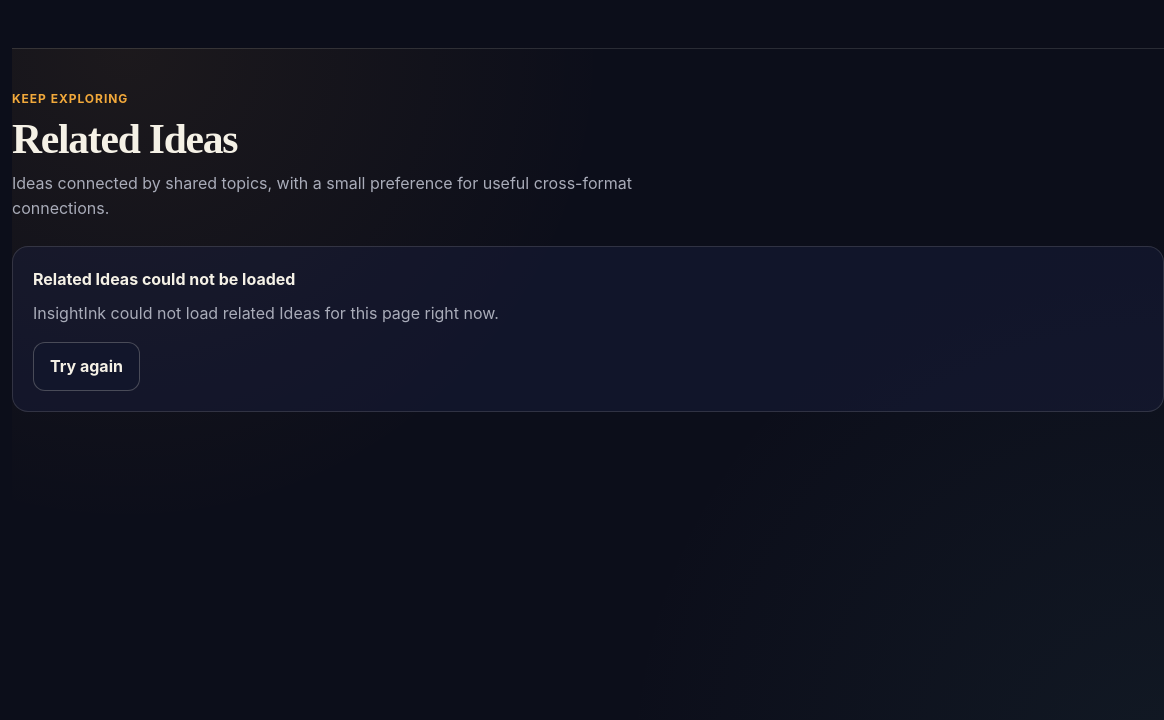
it: RelatedIdeasSection › renders a retryable error state
Expected: the message shows "Related Ideas could not be loaded", [33,269,295,289]
Click the button "Try again" at x=86, y=367, box [33,342,140,391]
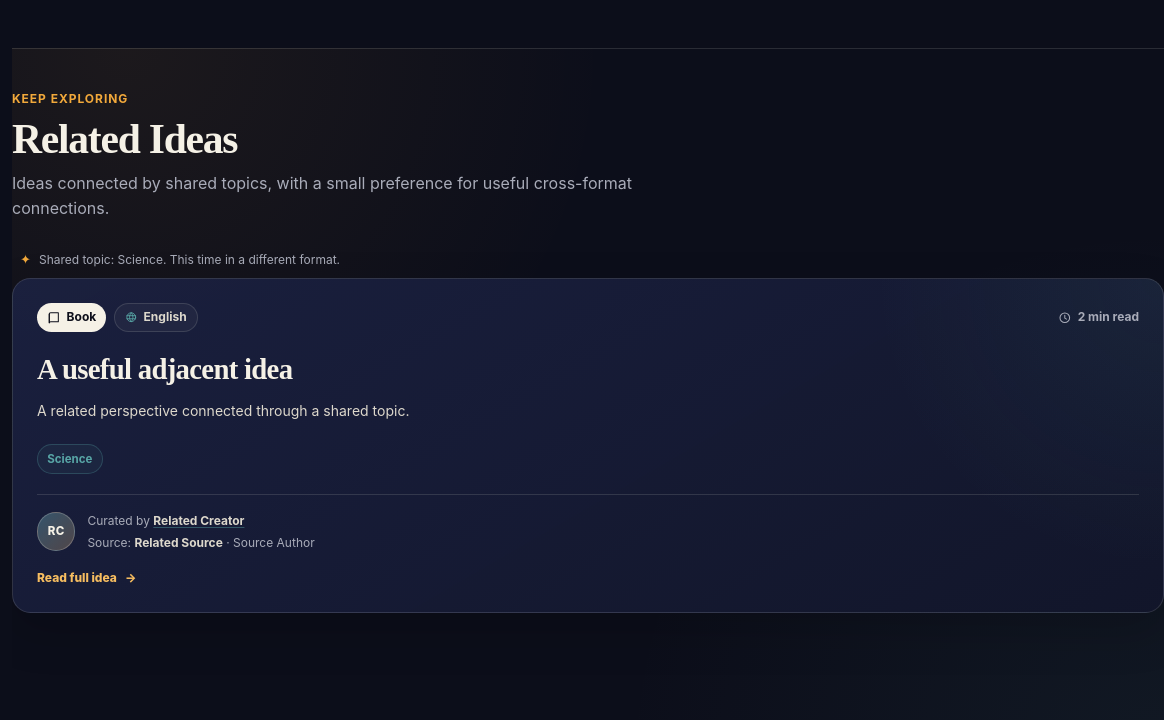
Now the heading "A useful adjacent idea" is shown, box [37,353,292,385]
